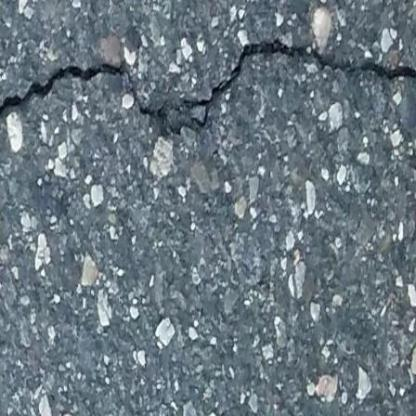Cracks: (0, 1, 416, 181)
